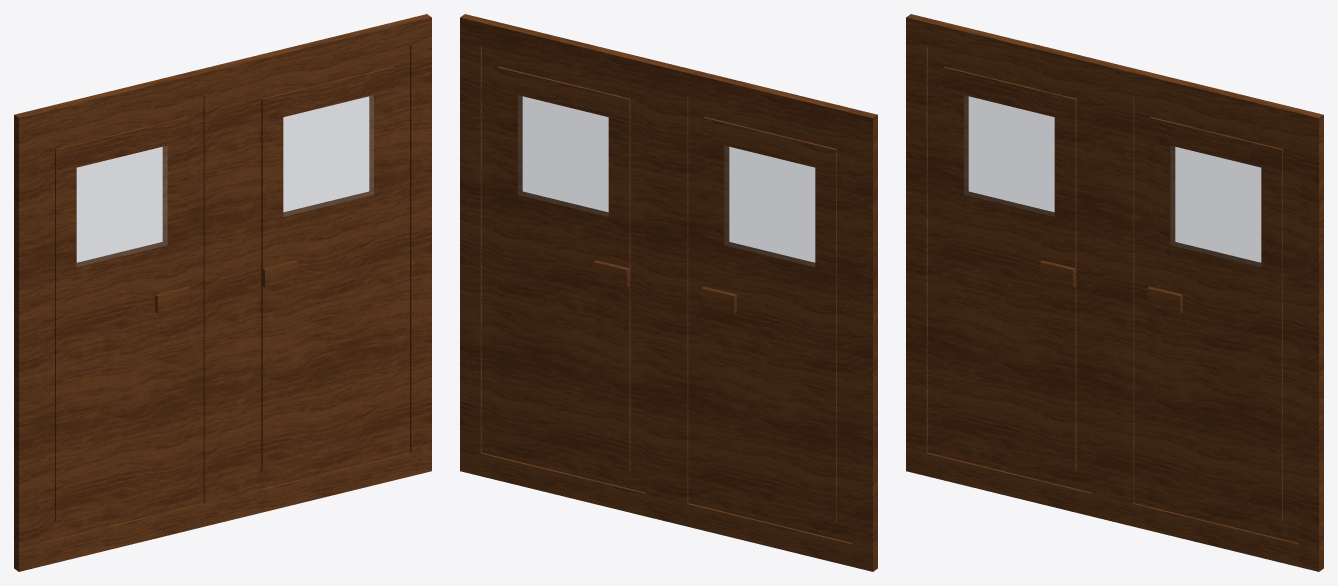
Rendered from door.glb.
3 renders of one model, left to right at view 1: azimuth 30°, elevation 25°; view 2: azimuth 150°, elevation 25°; view 3: azimuth 330°, elevation 25°, orthographic.
Parts seen in each view (by area): view 1: Geom3D (×2); view 2: Geom3D (×2); view 3: Geom3D (×2).
Boxes of the visible parts, <box> form: Geom3D (×2): <box>14,14,431,571</box>; Geom3D (×2): <box>460,14,877,571</box>; Geom3D (×2): <box>906,14,1323,571</box>.
Bounding box in the file's own units: 2 × 2.1 × 0.08.
2 materials, 1 textured.
